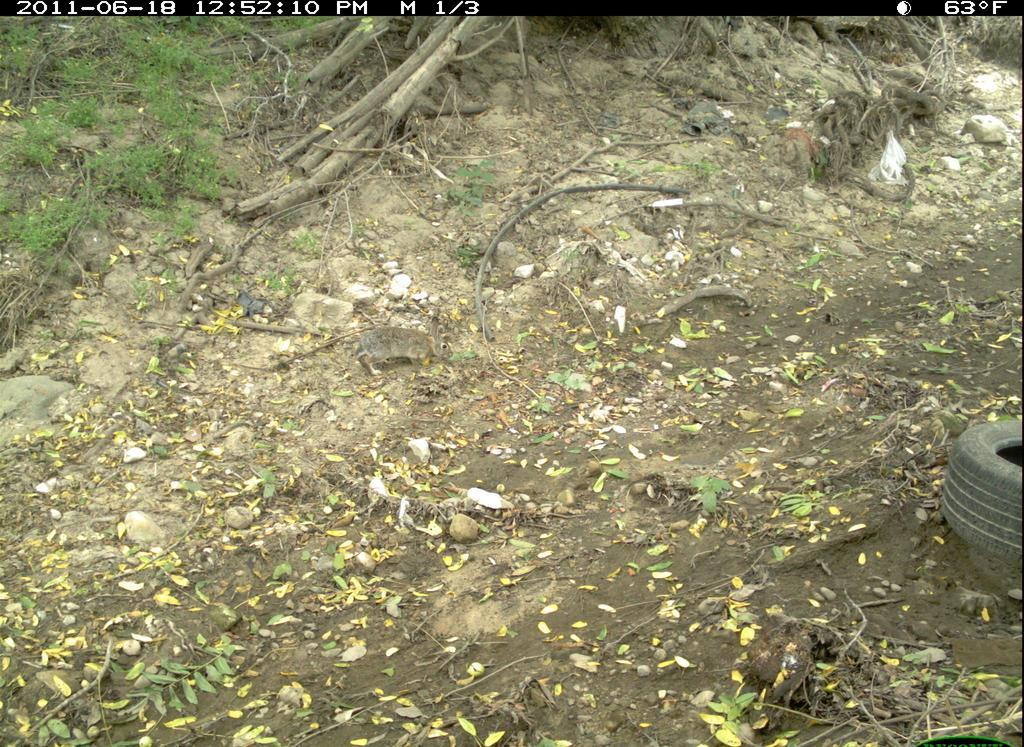rabbit: (336, 312, 472, 387)
